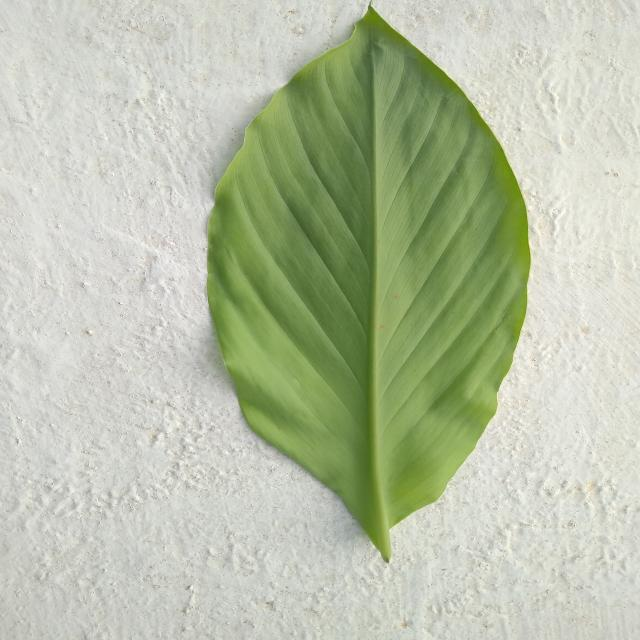turmeric: (207, 6, 529, 560)
